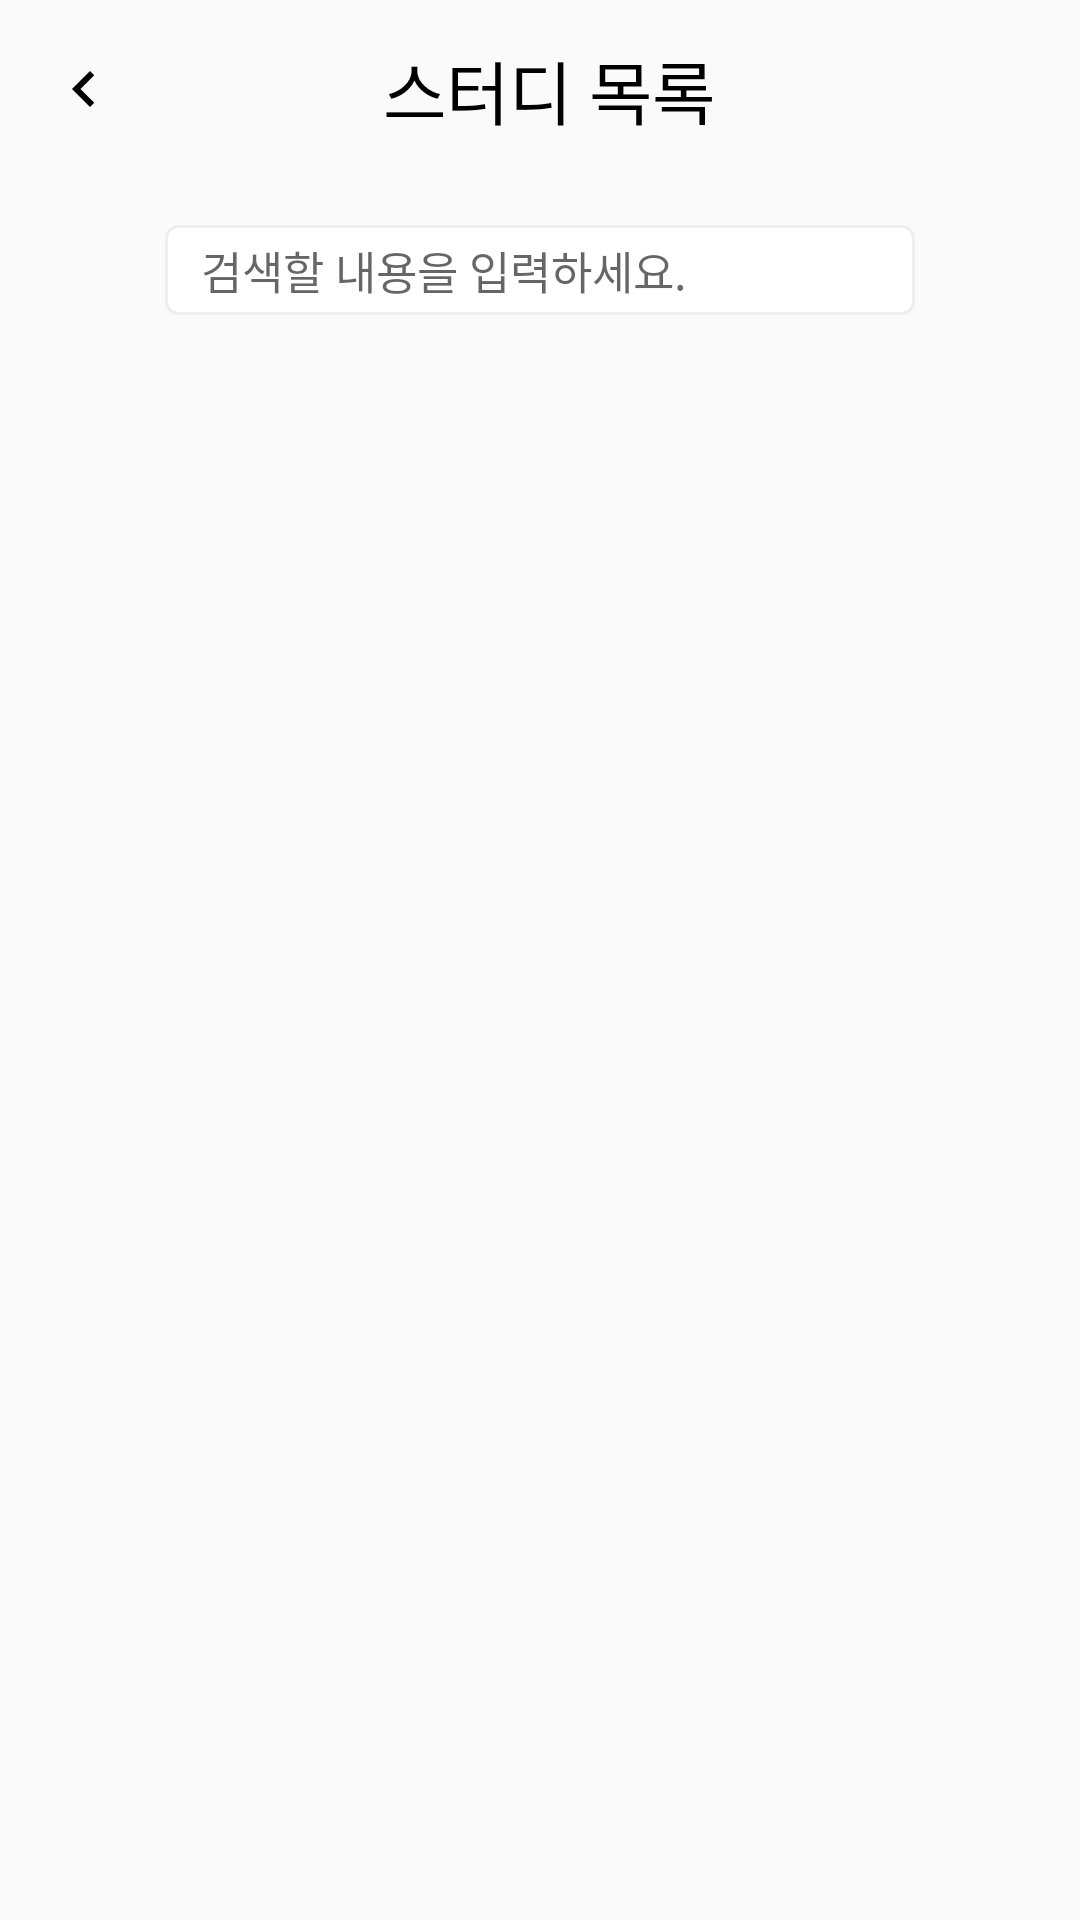

Icons on this 1080px x 1920px Android screen, each with its box as (x1, y1, x2, y2):
left arrow: (72, 71, 94, 107)
